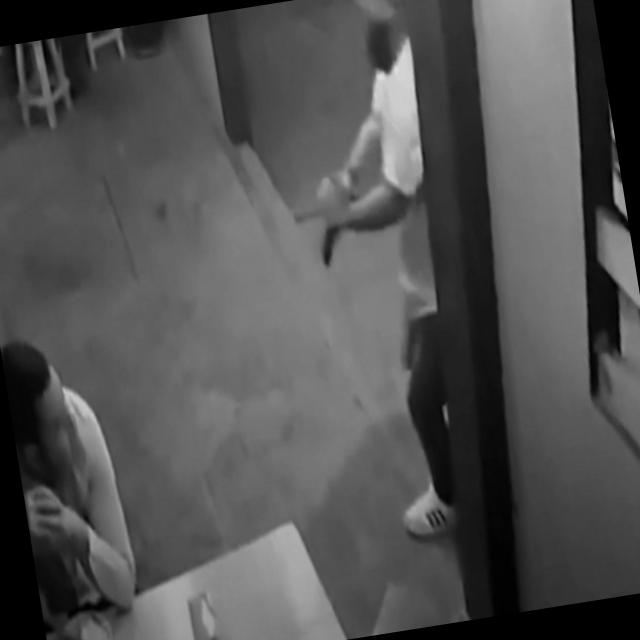gun: (314, 193, 369, 267)
person: (0, 330, 146, 624)
person with a gun: (283, 0, 491, 548)
